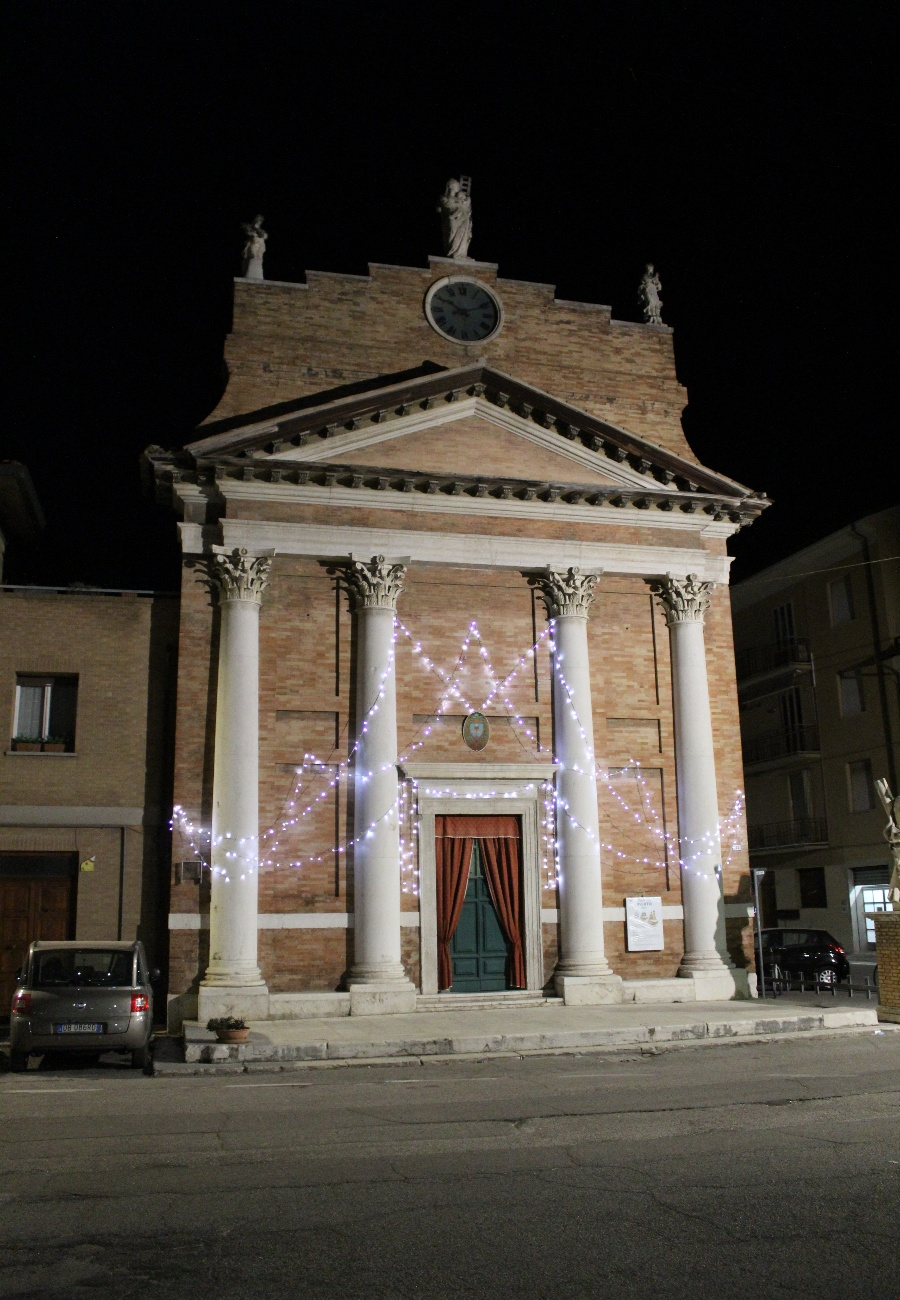Parrocchia Santa Maria: (152, 170, 775, 1049)
